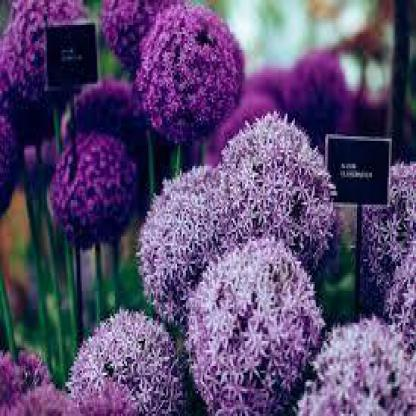Kenanga: (58, 68, 127, 142)
